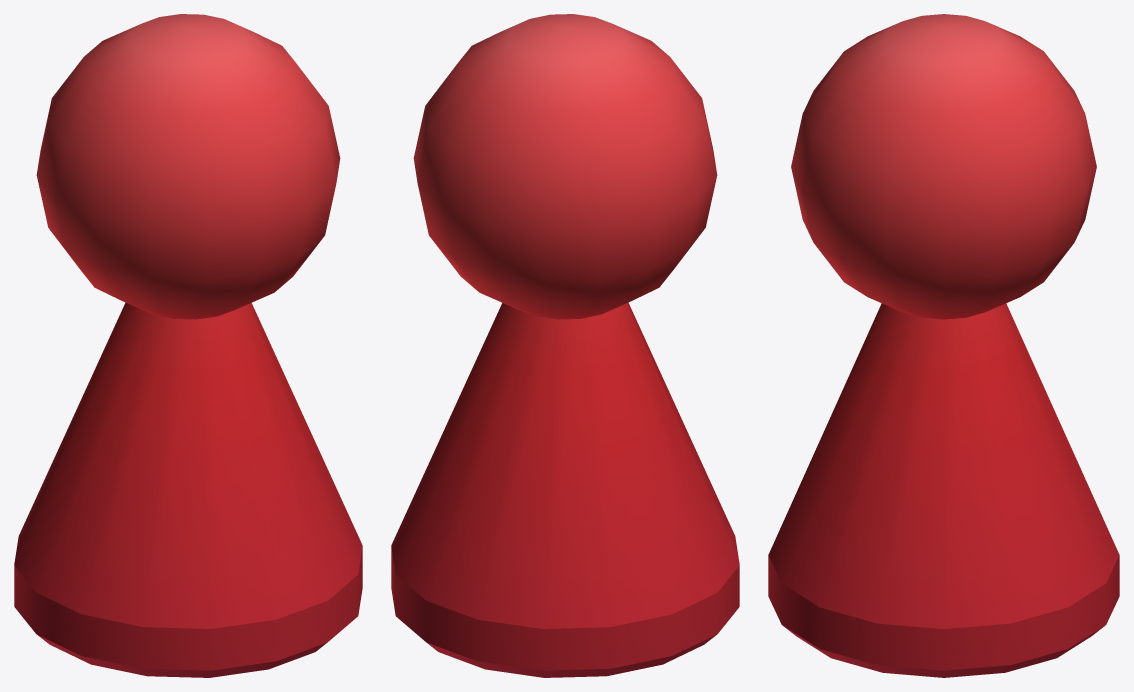
Rendered from pawn-a-red.glb.
3 renders of one model, left to right at view 1: azimuth 30°, elevation 25°; view 2: azimuth 150°, elevation 25°; view 3: azimuth 270°, elevation 25°, orthographic.
Parts seen in each view (by area): view 1: pawn_A_red; view 2: pawn_A_red; view 3: pawn_A_red.
Part boxes in pixels (left/top/right/bottom): pawn_A_red: left=14, top=14, right=362, bottom=677; pawn_A_red: left=391, top=14, right=739, bottom=677; pawn_A_red: left=768, top=14, right=1119, bottom=677.
Size of the model in its own units: 0.5 by 0.9146 by 0.5.
Materials: 1 (1 with a texture image).
